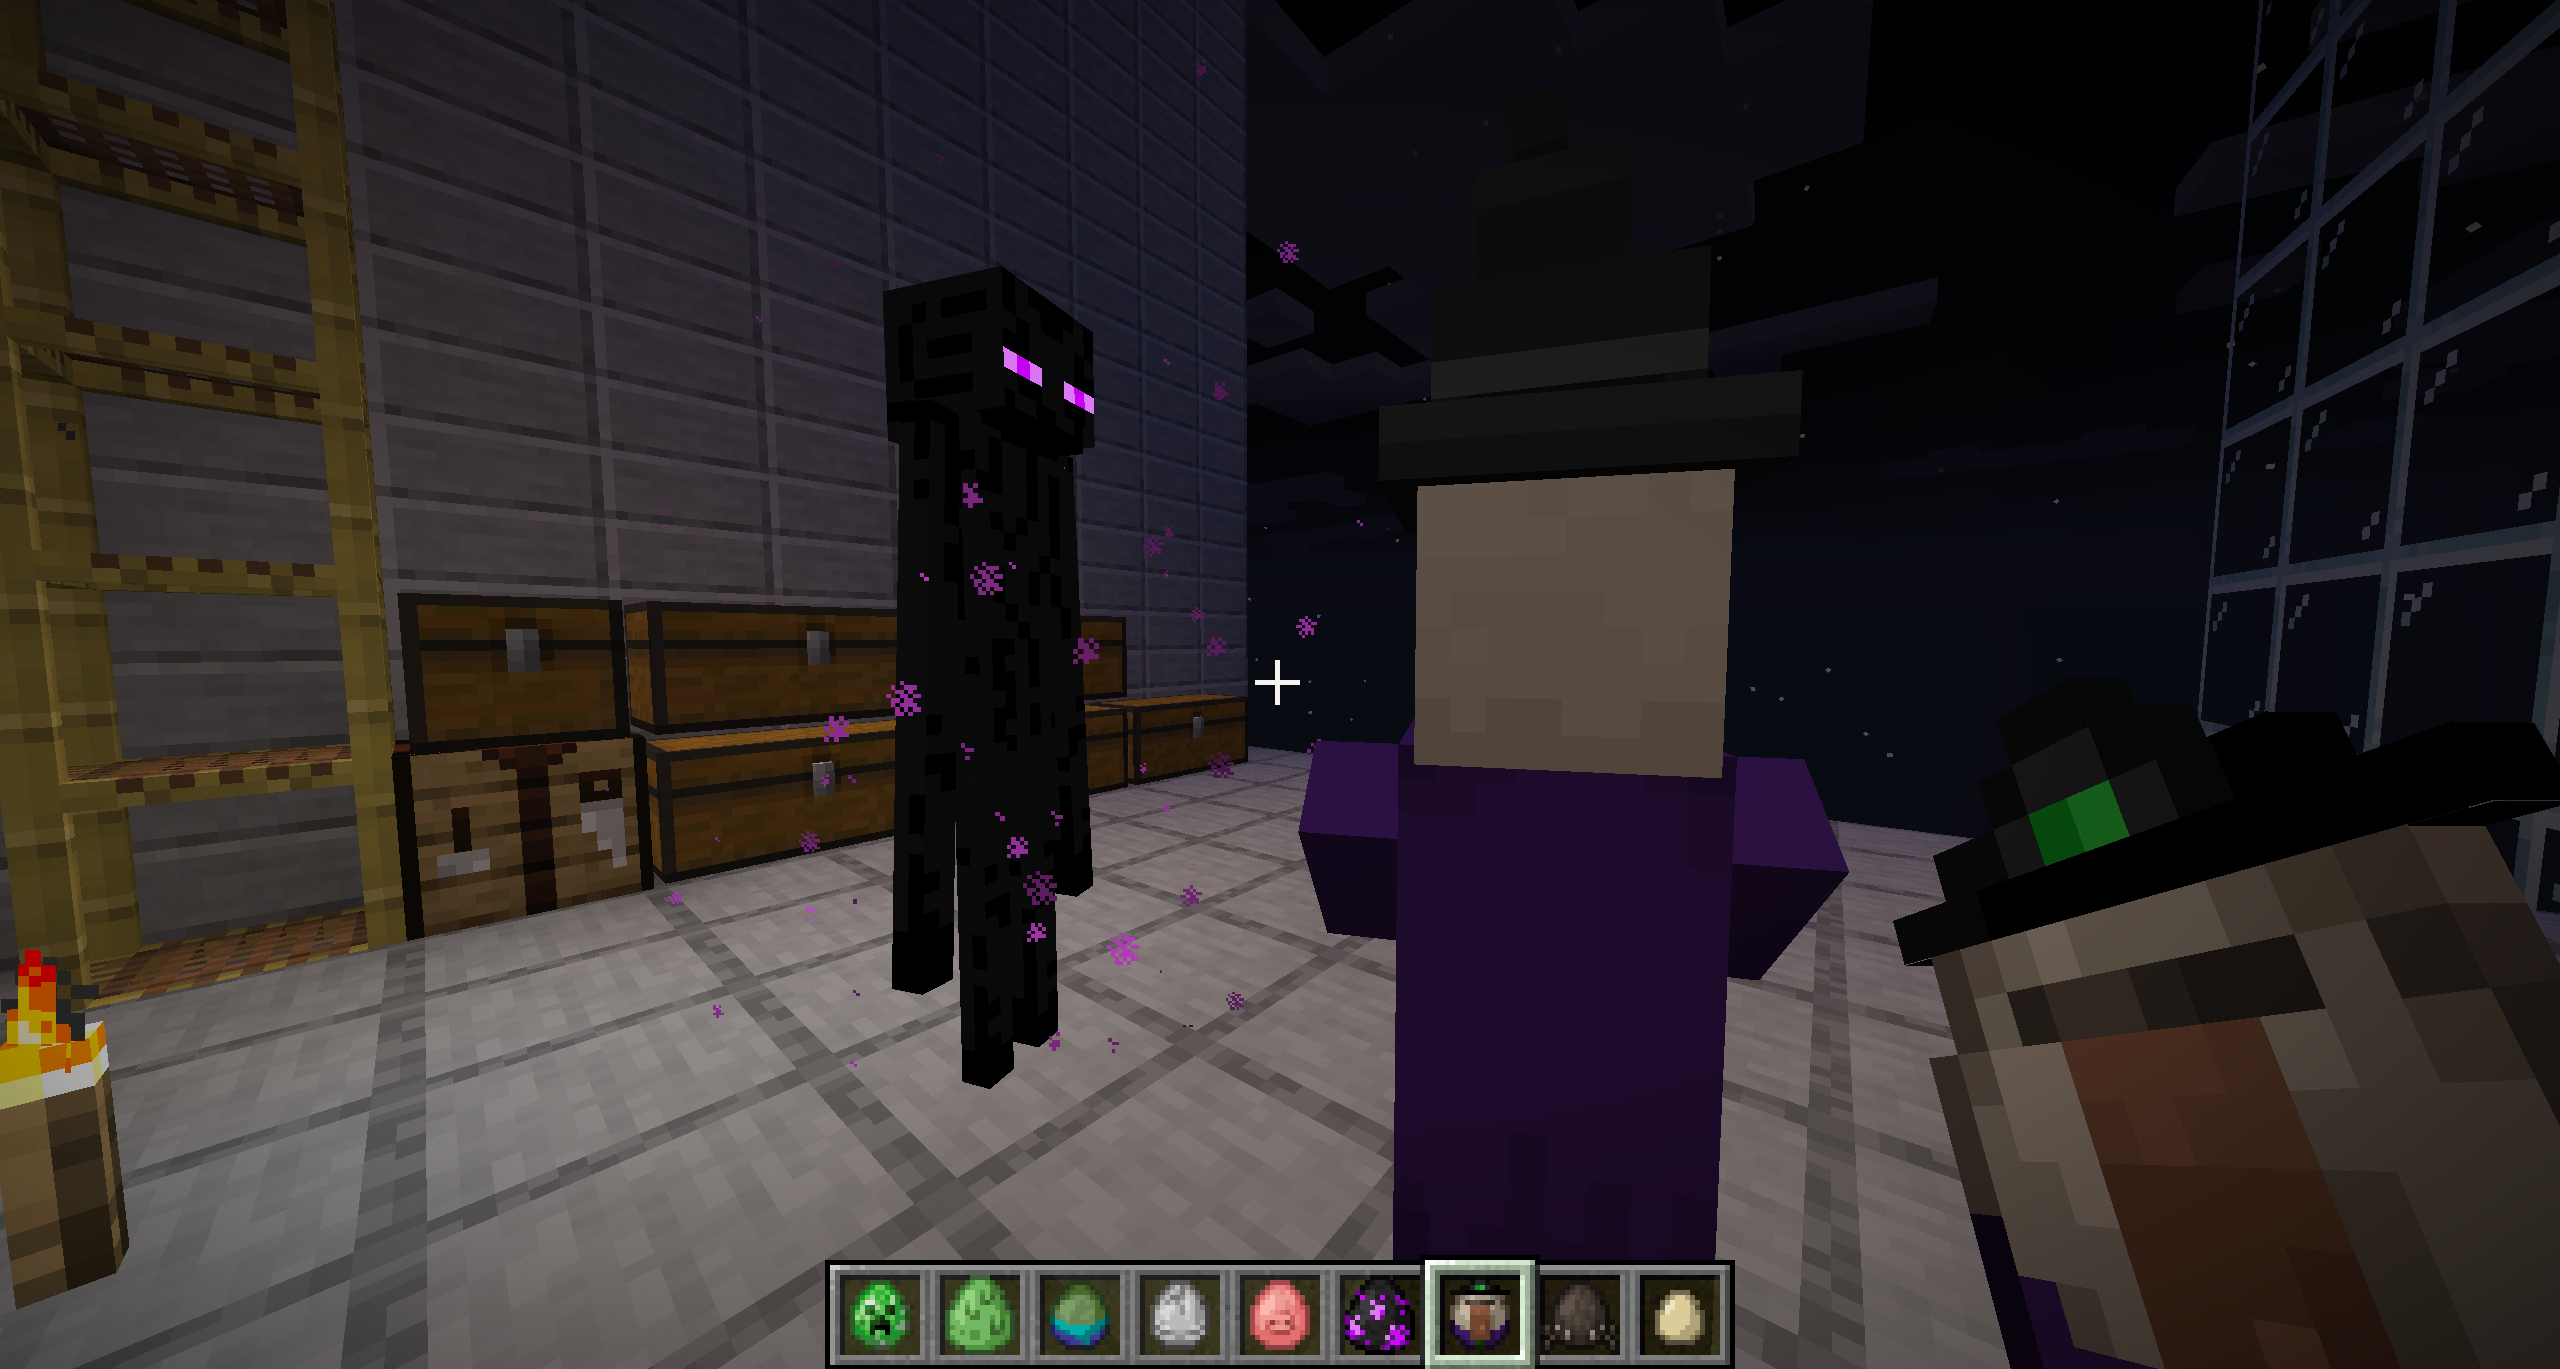endermens: (869, 254, 1104, 1086)
sorcieres: (1327, 232, 1837, 1267)
